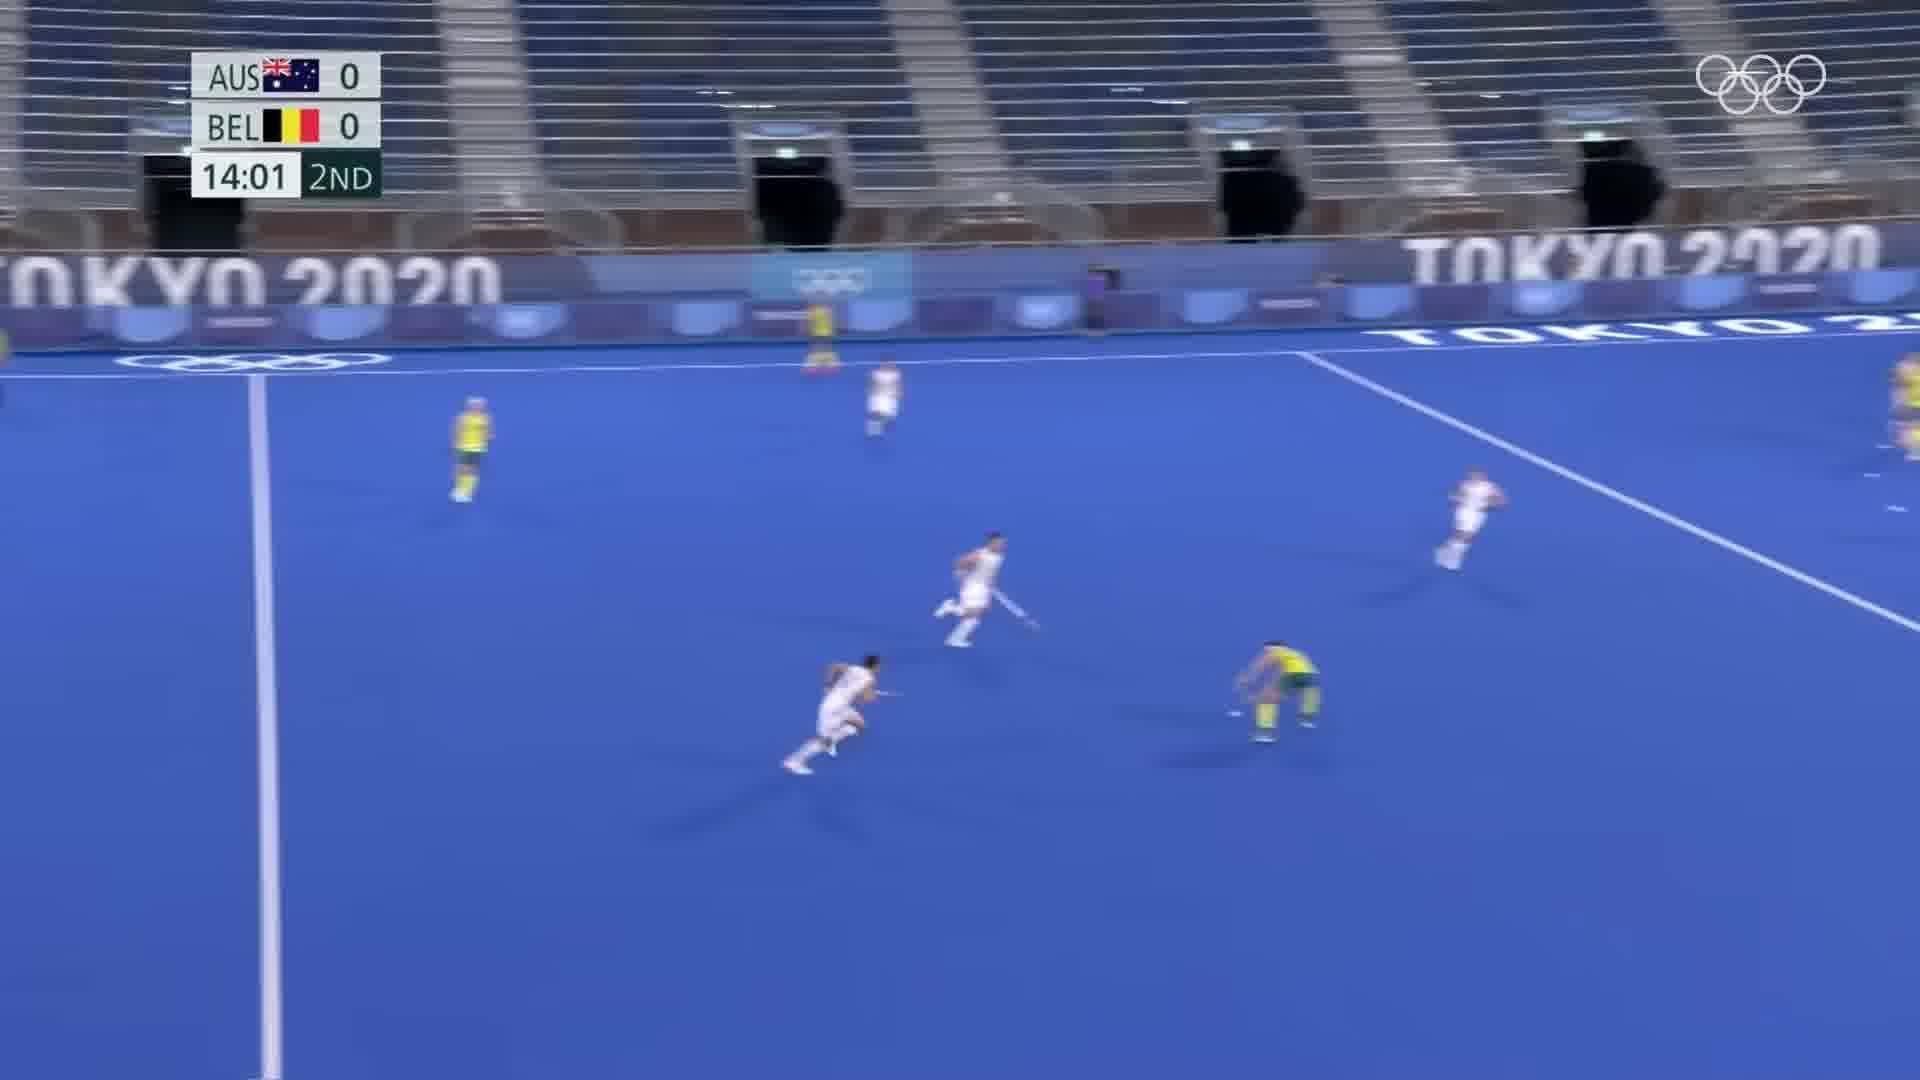ball: (1222, 708, 1247, 724)
